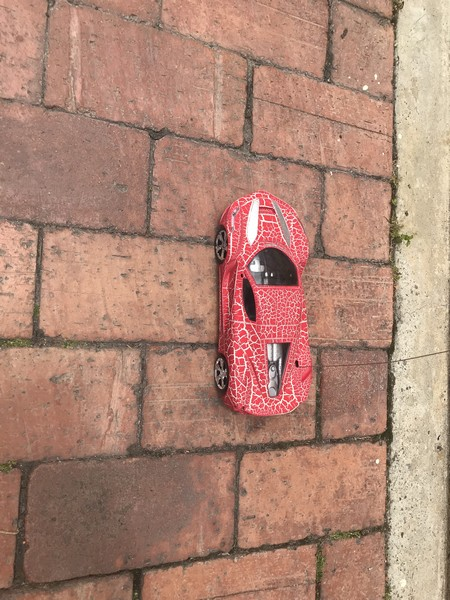RC: (212, 188, 313, 419)
